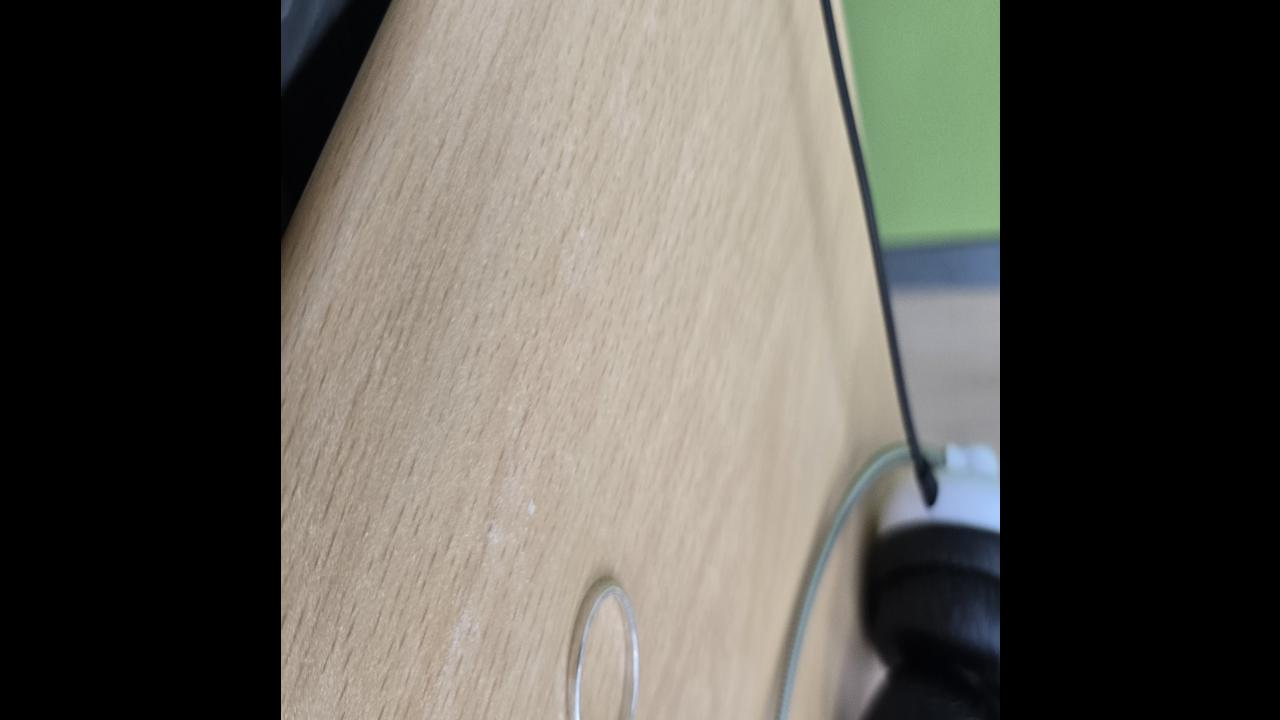ring: (564, 574, 640, 720)
